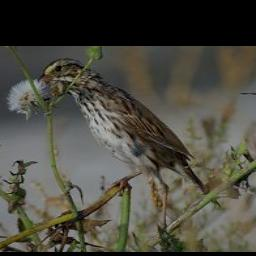Sparrow: (35, 56, 222, 208)
